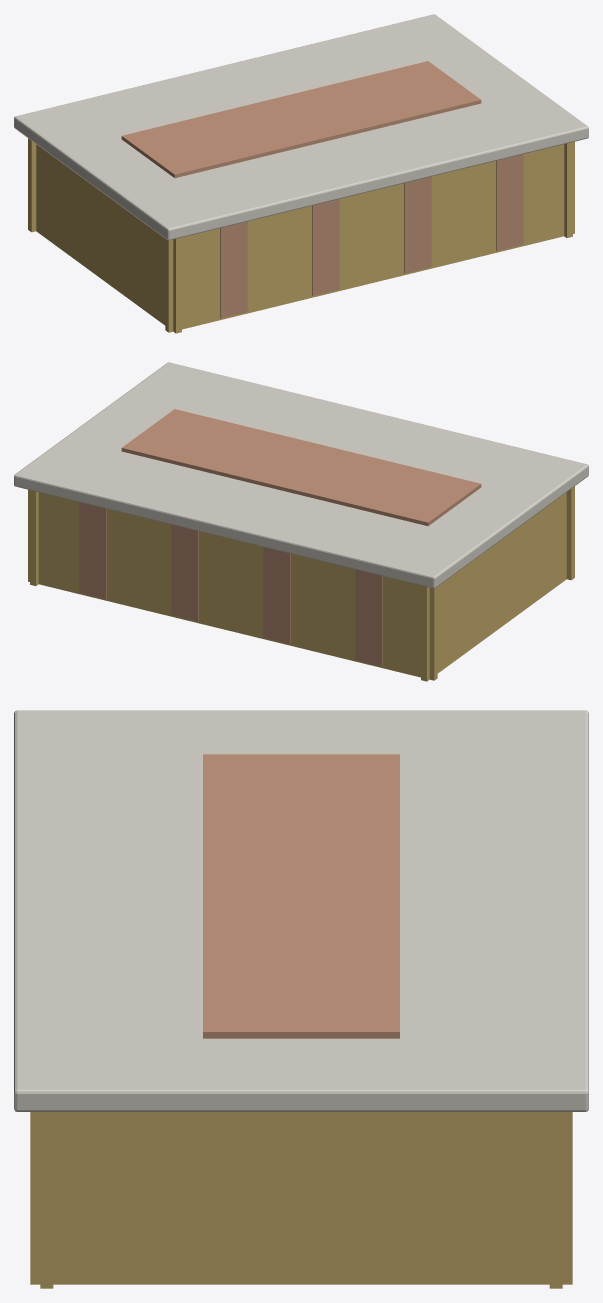
The model's file is mesa_toalha_sala2.glb.
3 renders of one model, top to bottom at view 1: azimuth 30°, elevation 25°; view 2: azimuth 150°, elevation 25°; view 3: azimuth 270°, elevation 25°, orthographic. The views are drawn at different scales.
Visible parts, largest first — view 1: MESA_ToalhaSala2_Topo, MESA_ToalhaSala2_SaiaN, MESA_ToalhaSala2_Trilho, MESA_ToalhaSala2_SaiaW, MESA_ToalhaSala2_PregaN1, MESA_ToalhaSala2_PregaN0, MESA_ToalhaSala2_PregaN2, MESA_ToalhaSala2_PregaN3, MESA_ToalhaSala2_SaiaE, MESA_ToalhaSala2_SaiaS; view 2: MESA_ToalhaSala2_Topo, MESA_ToalhaSala2_SaiaS, MESA_ToalhaSala2_Trilho, MESA_ToalhaSala2_SaiaW, MESA_ToalhaSala2_PregaS1, MESA_ToalhaSala2_PregaS0, MESA_ToalhaSala2_PregaS2, MESA_ToalhaSala2_PregaS3, MESA_ToalhaSala2_SaiaE, MESA_ToalhaSala2_SaiaN; view 3: MESA_ToalhaSala2_Topo, MESA_ToalhaSala2_SaiaE, MESA_ToalhaSala2_Trilho, MESA_ToalhaSala2_SaiaN, MESA_ToalhaSala2_SaiaS.
Part boxes in pixels (box(x1,y1,x2,y2)): MESA_ToalhaSala2_Topo: box(14, 14, 588, 240); MESA_ToalhaSala2_SaiaN: box(165, 141, 574, 332); MESA_ToalhaSala2_Trilho: box(121, 61, 481, 177); MESA_ToalhaSala2_SaiaW: box(36, 144, 181, 333); MESA_ToalhaSala2_PregaN1: box(312, 199, 339, 295); MESA_ToalhaSala2_PregaN0: box(220, 221, 247, 318); MESA_ToalhaSala2_PregaN2: box(404, 176, 431, 273); MESA_ToalhaSala2_PregaN3: box(496, 154, 523, 250); MESA_ToalhaSala2_SaiaE: box(564, 142, 572, 237); MESA_ToalhaSala2_SaiaS: box(28, 138, 36, 232); MESA_ToalhaSala2_Topo: box(14, 362, 588, 588); MESA_ToalhaSala2_SaiaS: box(28, 489, 437, 680); MESA_ToalhaSala2_Trilho: box(121, 409, 481, 525); MESA_ToalhaSala2_SaiaW: box(421, 492, 566, 681); MESA_ToalhaSala2_PregaS1: box(263, 547, 290, 643); MESA_ToalhaSala2_PregaS0: box(355, 569, 382, 666); MESA_ToalhaSala2_PregaS2: box(171, 524, 198, 621); MESA_ToalhaSala2_PregaS3: box(79, 502, 106, 598); MESA_ToalhaSala2_SaiaE: box(30, 490, 38, 585); MESA_ToalhaSala2_SaiaN: box(566, 486, 574, 580); MESA_ToalhaSala2_Topo: box(14, 710, 588, 1111); MESA_ToalhaSala2_SaiaE: box(30, 1112, 572, 1284); MESA_ToalhaSala2_Trilho: box(203, 754, 399, 1038); MESA_ToalhaSala2_SaiaN: box(40, 1112, 53, 1288); MESA_ToalhaSala2_SaiaS: box(549, 1112, 562, 1288).
Bounding box in the file's own units: 1.1 × 0.284 × 0.7.
